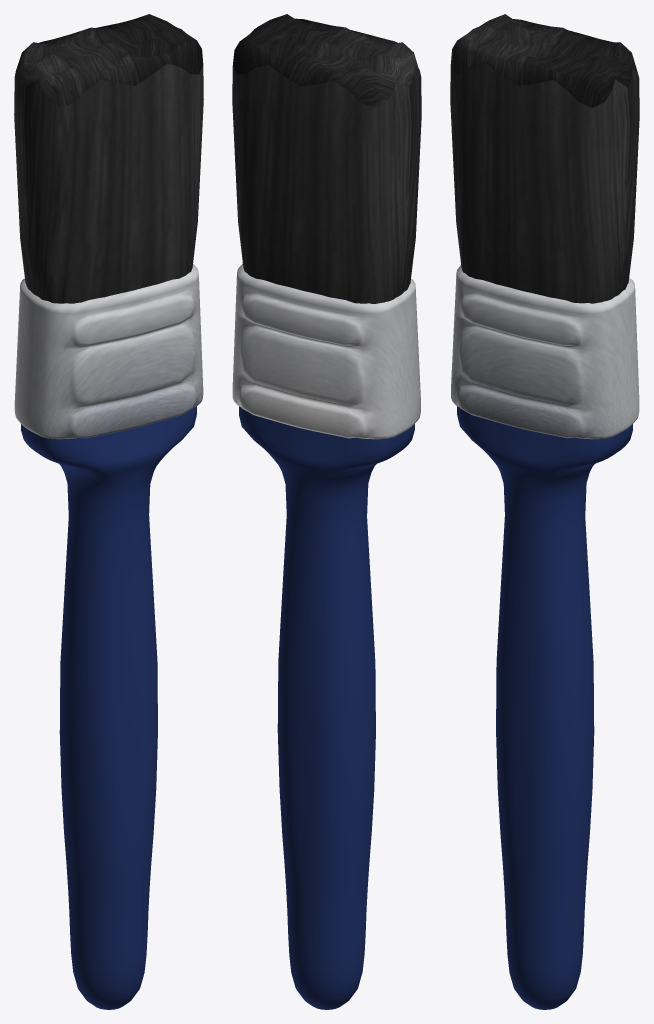
File: brush.fbx
The picture shows the model from 3 angles, left to right: view 1: azimuth 30°, elevation 25°; view 2: azimuth 150°, elevation 25°; view 3: azimuth 330°, elevation 25°; orthographic projection.
Parts seen in each view (by area): view 1: pCylinder3, pCube1; view 2: pCylinder3, pCube1; view 3: pCylinder3, pCube1.
Part boxes in pixels (bbox=[...]): pCylinder3: bbox=[14, 264, 203, 1009]; pCube1: bbox=[14, 14, 203, 303]; pCylinder3: bbox=[232, 263, 420, 1009]; pCube1: bbox=[232, 14, 421, 303]; pCylinder3: bbox=[451, 265, 639, 1009]; pCube1: bbox=[450, 14, 639, 303].
Size of the model in its own units: 1.65 by 8.95 by 0.977.
4 materials, 4 textured.
